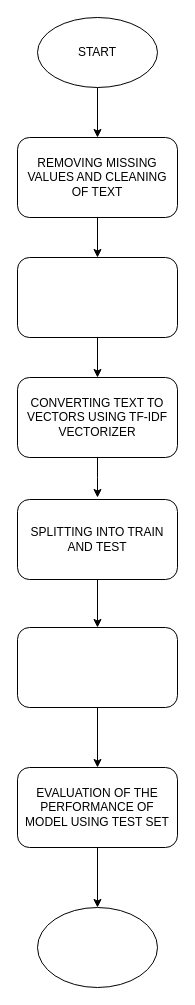
Some shapes in this 195 by 1005 pixel diagram are drawn without their labels. Here are the shapes that lost their labels. From the top down, the centre of each, then its label:
At (x=97, y=297): "LEMMATIZING OF CLEANED TEXT".
At (x=97, y=667): "BUILDING CLASSIFICATION ML ALGORITHM ON THE TRAIN DATA".
At (x=97, y=947): "END".
